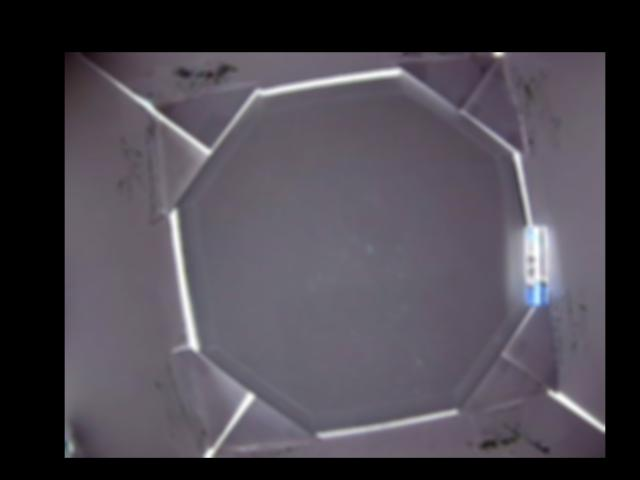Battery: (521, 222, 547, 307)
